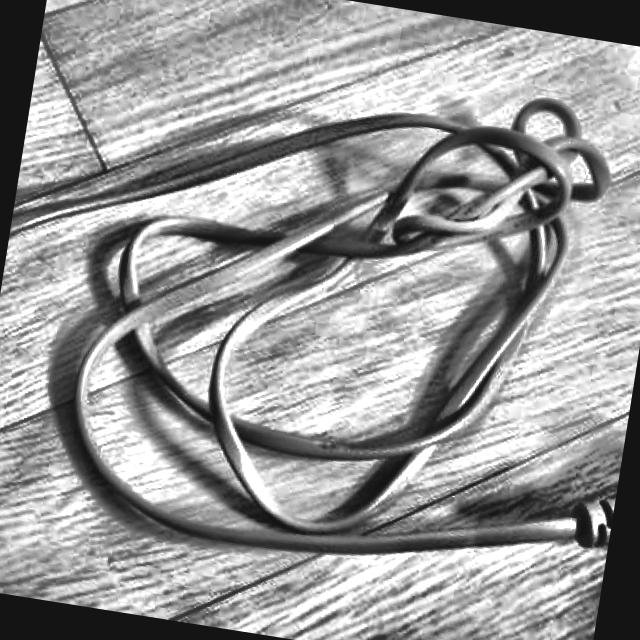Cable: (0, 16, 640, 601)
